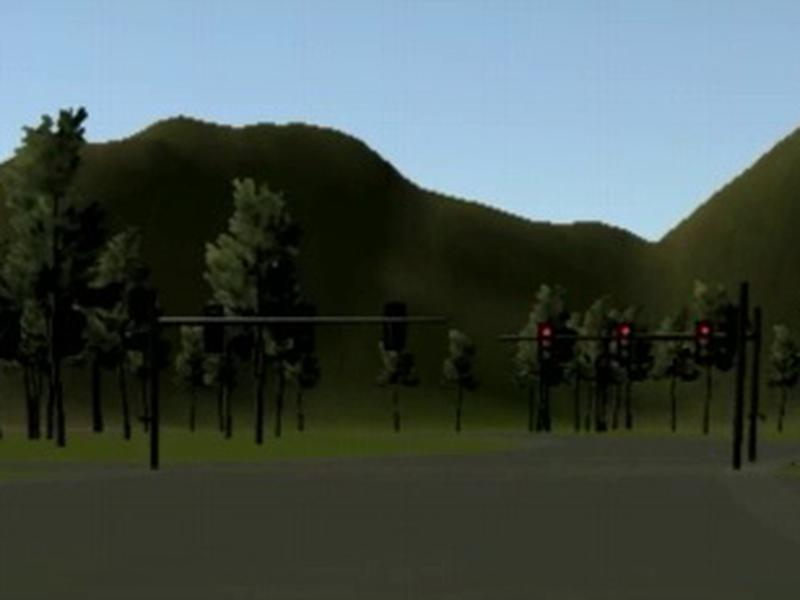Red: (695, 320, 715, 364), (536, 321, 557, 361), (616, 323, 634, 362)
